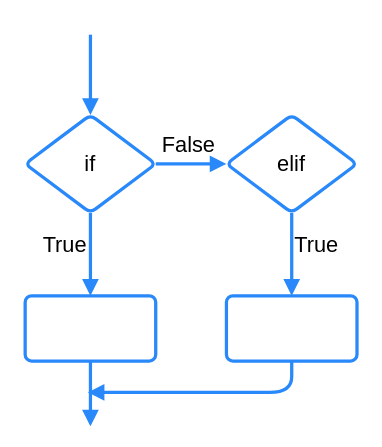
This 382x447 diagram has some shape labels left out. The centre of each missing label's shape, as x and y in pixels:
"elif block" belongs at point (291, 327).
"if block" belongs at point (90, 327).
